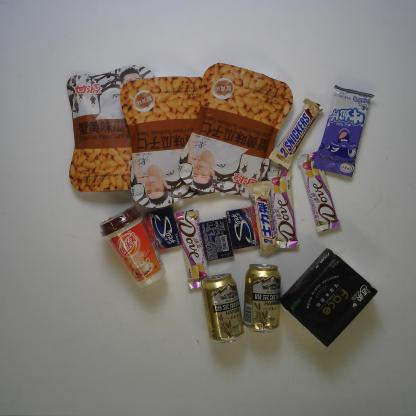Alcohol: (200, 272, 246, 344), (242, 263, 282, 335)
Candy: (312, 84, 376, 178)
Chocolate: (267, 98, 324, 171), (297, 147, 341, 235), (173, 208, 212, 291), (243, 180, 284, 256), (265, 168, 301, 250)
Dried Fruit: (177, 62, 294, 200), (118, 75, 225, 209), (63, 63, 162, 192)
Gum: (143, 204, 181, 252), (198, 216, 236, 263), (226, 204, 263, 252)
Instant Drink: (98, 206, 167, 289)
Tissue: (278, 246, 379, 349)
